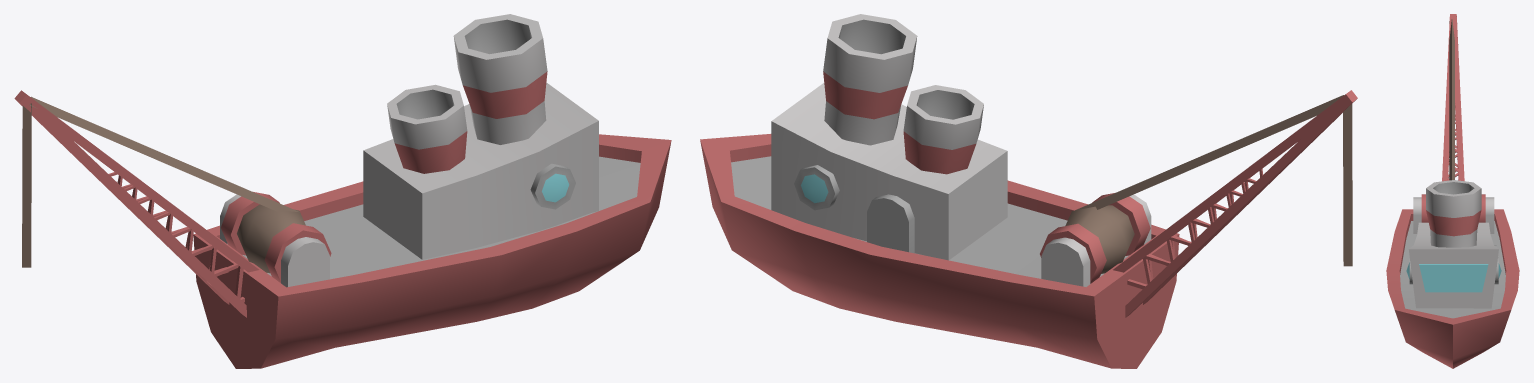
The model's file is Boat.fbx.
The picture shows the model from 3 angles, left to right: view 1: azimuth 30°, elevation 25°; view 2: azimuth 150°, elevation 25°; view 3: azimuth 270°, elevation 25°; orthographic projection. The views are drawn at different scales.
Parts seen in each view (by area): view 1: pCube1, pCube2, pCylinder1, pCube32, pCylinder2, pCylinder9, pCylinder10, pCube10, pCylinder11, pCylinder4; view 2: pCube1, pCube2, pCylinder1, pCube32, pCylinder2, pCylinder9, pCylinder10, pCube3, pCube11, pCylinder11, pCylinder3; view 3: pCube1, pCube2, pCylinder1, pCube4, pCube32, pCylinder10, pCylinder9, pCube11, pCube10.
Boxes of the visible parts, x1,y1,x2,y2 form: pCube1: [193, 134, 671, 368]; pCube2: [363, 82, 598, 259]; pCylinder1: [453, 14, 547, 144]; pCube32: [14, 90, 259, 317]; pCylinder2: [387, 84, 467, 173]; pCylinder9: [221, 192, 331, 282]; pCylinder10: [29, 96, 299, 212]; pCube10: [281, 237, 329, 287]; pCylinder11: [22, 103, 31, 267]; pCylinder4: [530, 163, 575, 209]; pCube1: [700, 134, 1179, 368]; pCube2: [771, 83, 1007, 260]; pCylinder1: [823, 14, 917, 145]; pCube32: [1113, 90, 1357, 317]; pCylinder2: [903, 85, 983, 174]; pCylinder9: [1040, 193, 1150, 283]; pCylinder10: [1075, 95, 1343, 210]; pCube3: [867, 194, 914, 253]; pCube11: [1041, 237, 1090, 286]; pCylinder11: [1343, 104, 1352, 266]; pCylinder3: [794, 165, 839, 210]; pCube1: [1386, 209, 1519, 368]; pCube2: [1408, 222, 1498, 308]; pCylinder1: [1426, 180, 1481, 247]; pCube4: [1419, 264, 1488, 292]; pCube32: [1442, 14, 1464, 181]; pCylinder10: [1449, 19, 1454, 180]; pCylinder9: [1421, 194, 1485, 222]; pCube11: [1485, 197, 1494, 233]; pCube10: [1413, 197, 1421, 233].
Bounding box in the file's own units: 175 × 85.5 × 51.88.
